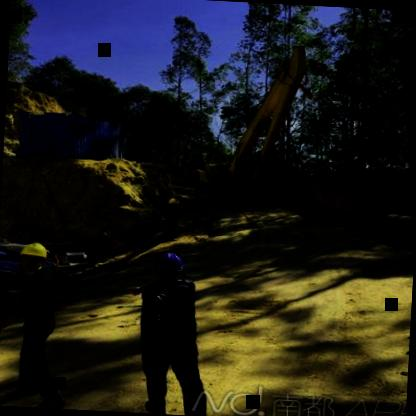helmet: (143, 248, 193, 280), (10, 238, 52, 274)
